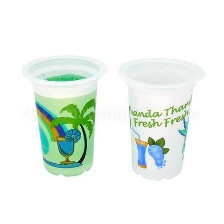glass: (115, 51, 208, 187), (20, 51, 109, 181)
